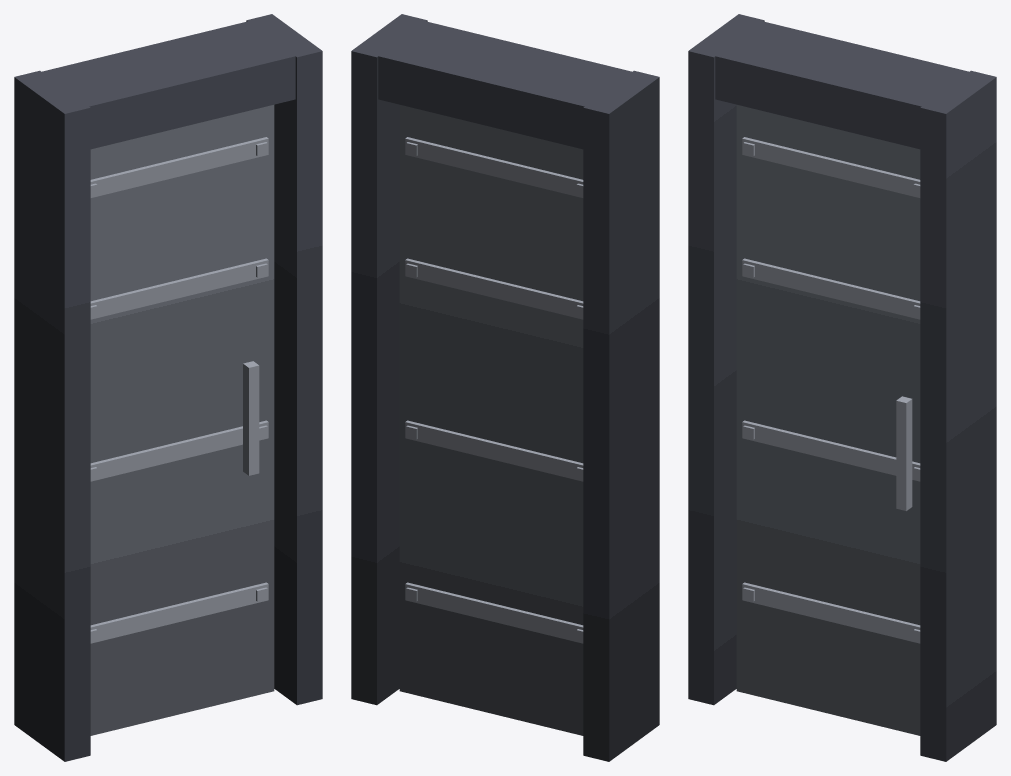
File: door_metal.glb
The picture shows the model from 3 angles, left to right: view 1: azimuth 30°, elevation 25°; view 2: azimuth 150°, elevation 25°; view 3: azimuth 330°, elevation 25°; orthographic projection.
Bounding box in the file's own units: 1 × 2.4 × 0.34.
Materials: 1 (1 with a texture image).
